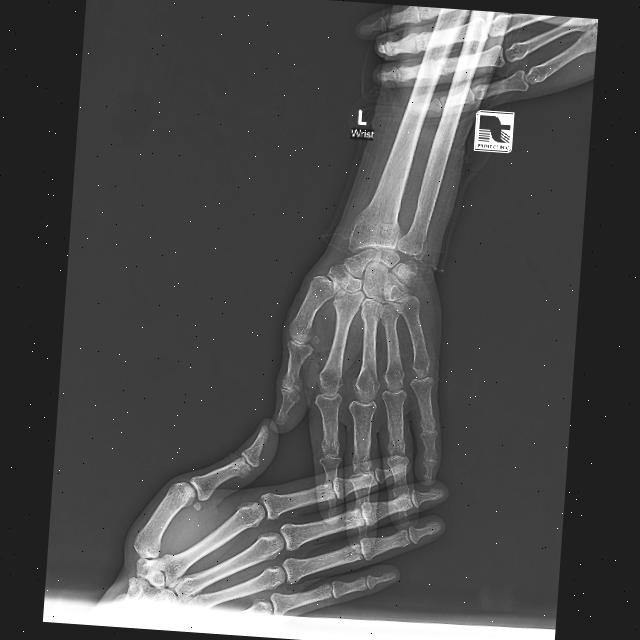Fracture: (347, 209, 407, 245)
